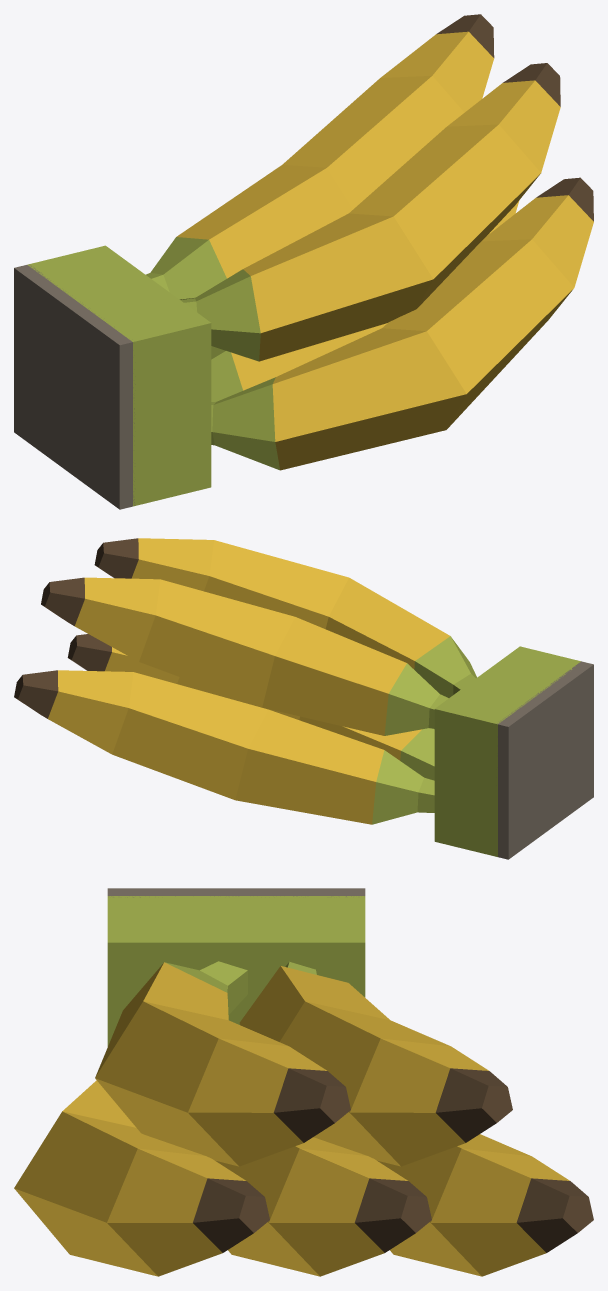
File: FD_BananaBunch_01.glb
3 views of the same model, one above another, from view 1: azimuth 30°, elevation 25°; view 2: azimuth 150°, elevation 25°; view 3: azimuth 270°, elevation 25° (orthographic). The views are drawn at different scales.
Parts seen in each view (by area): view 1: FD_BananaBunch_01; view 2: FD_BananaBunch_01; view 3: FD_BananaBunch_01.
Boxes of the visible parts, left/top/right/bottom form: FD_BananaBunch_01: left=14, top=14, right=593, bottom=509; FD_BananaBunch_01: left=14, top=538, right=593, bottom=859; FD_BananaBunch_01: left=14, top=888, right=593, bottom=1276.
Bounding box in the file's own units: 0.2015 × 0.0933 × 0.1576.
Materials: 1 (1 with a texture image).
